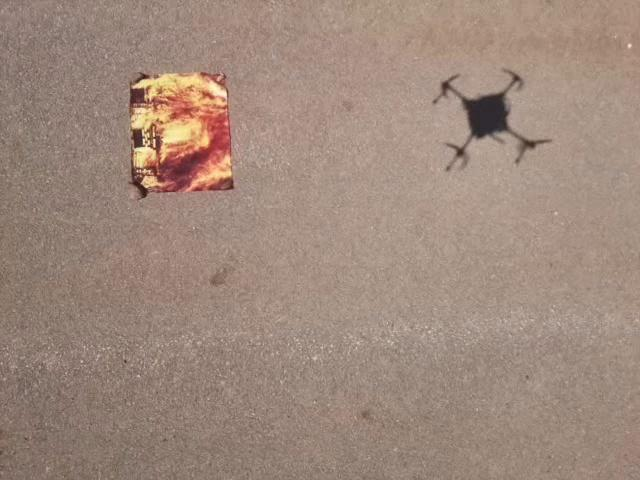fire-poster: (126, 69, 235, 198)
